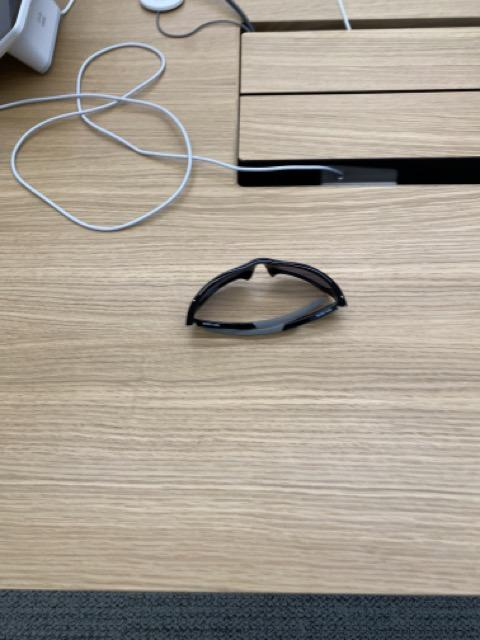Sunglasses: (186, 257, 349, 338)
